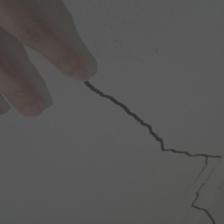Medium: (100, 85, 216, 205)
